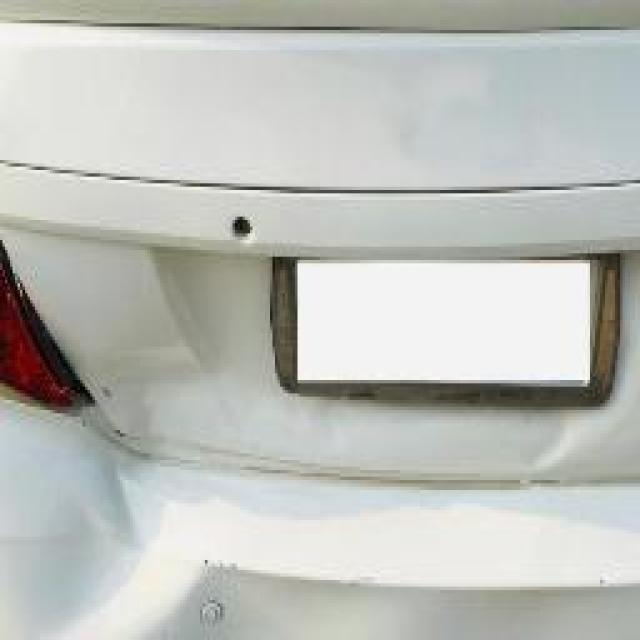Bumper: (45, 424, 205, 640)
